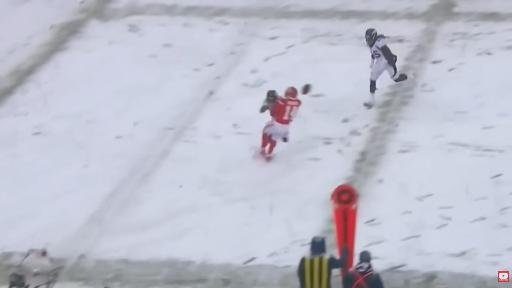Helmet: (366, 28, 377, 45), (285, 87, 298, 98), (267, 90, 278, 102)
Jersey: (271, 98, 301, 125), (367, 35, 386, 59), (260, 100, 274, 112)
Player: (364, 29, 407, 108), (260, 87, 301, 161), (260, 90, 278, 113)
